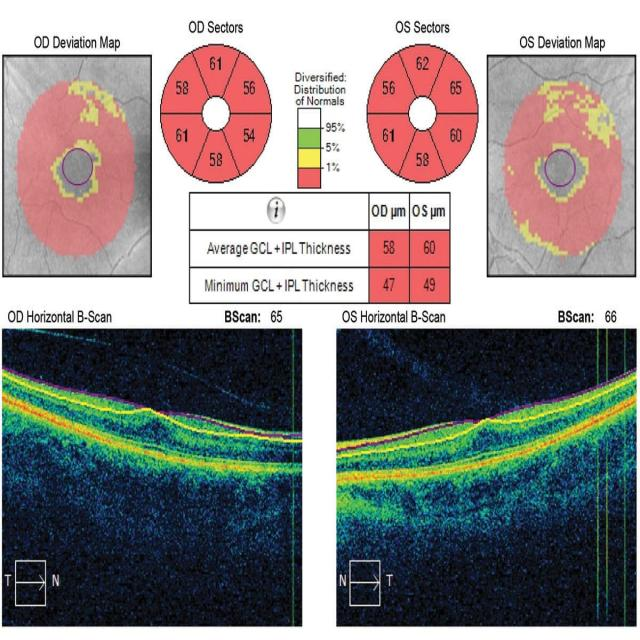average gcl and ipl thickness: (199, 231, 442, 266)
average gcl and ipl thickness-od: (371, 230, 408, 262)
average gcl and ipl thickness-os: (414, 226, 442, 268)
minimum gcl and ipl thickness: (202, 269, 442, 300)
minimum gcl and ipl thickness-od: (375, 270, 402, 298)
minimum gcl and ipl thickness-os: (416, 268, 442, 301)
